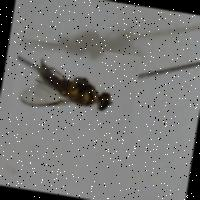Oriental-fruit-fly: (7, 36, 140, 134)
